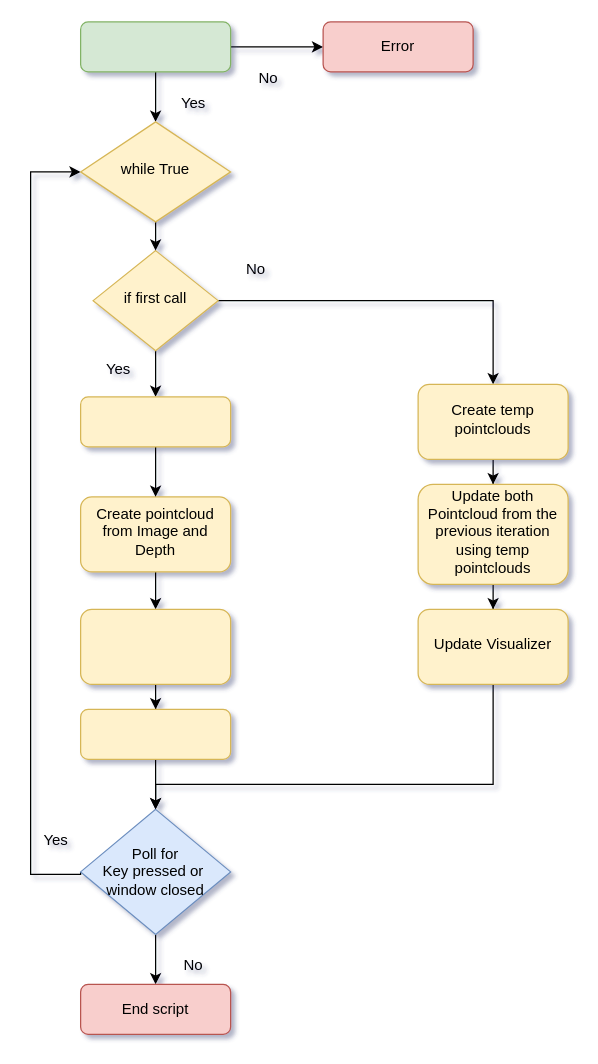
Image size: 598x1064. Some labels were removed from this diagram. Here are the shapes that lost their labels. From the top down, the centre of each, then its label:
At point (155, 46): "Initialize Nuitrack".
At point (155, 421): "Create Visualizer".
At point (155, 646): "Create pointlcoud for Joints".
At point (155, 733): "toggle first call".
